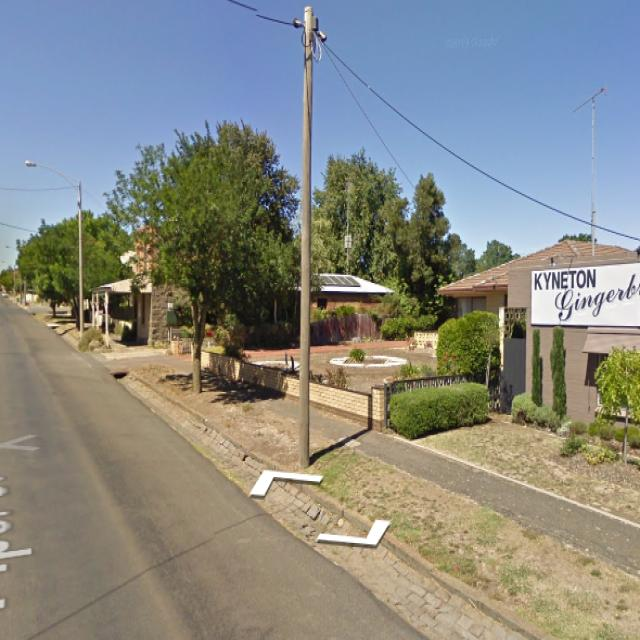crossarm: (572, 86, 604, 112)
streetlight: (26, 162, 79, 196)
timber-pole: (298, 5, 316, 468), (77, 180, 84, 338), (591, 95, 597, 259)
